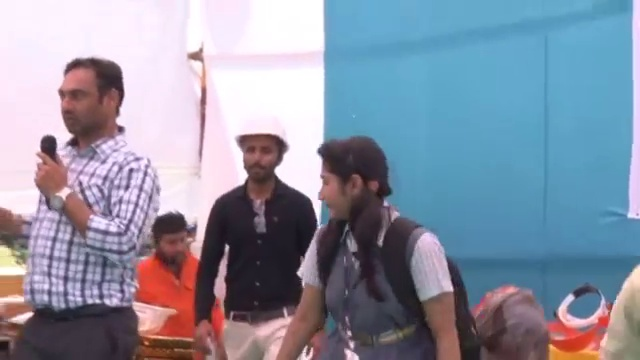helmet: (127, 299, 176, 341), (236, 111, 290, 149)
helmet_off: (56, 60, 128, 143), (314, 139, 386, 221), (483, 293, 552, 360), (151, 212, 190, 268)
helmet_on: (235, 111, 289, 188)
person: (0, 58, 158, 360), (283, 142, 465, 358), (196, 111, 322, 360), (133, 208, 225, 348)
